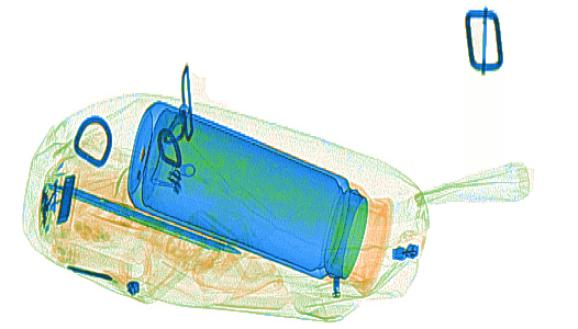knife: (48, 180, 241, 255), (54, 171, 75, 224)
